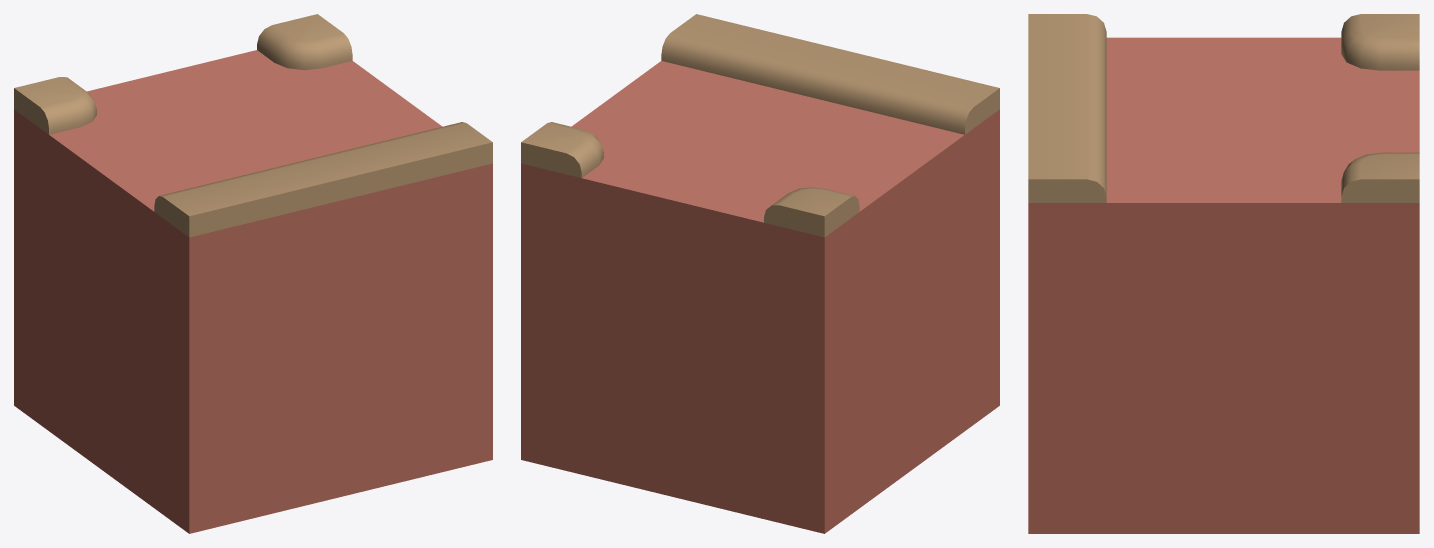
File: tile-road-int3.glb
3 renders of one model, left to right at view 1: azimuth 30°, elevation 25°; view 2: azimuth 150°, elevation 25°; view 3: azimuth 270°, elevation 25°, orthographic. The views are drawn at different scales.
Visible parts, largest first — view 1: Tile_Road_Inner_Corner_3_Edge; view 2: Tile_Road_Inner_Corner_3_Edge; view 3: Tile_Road_Inner_Corner_3_Edge.
Part boxes in pixels (x1,y1,x2,y2): Tile_Road_Inner_Corner_3_Edge: (14, 14, 492, 533); Tile_Road_Inner_Corner_3_Edge: (521, 14, 999, 533); Tile_Road_Inner_Corner_3_Edge: (1028, 14, 1419, 533).
Size of the model in its own units: 2 by 2 by 2.
1 material, 1 textured.
